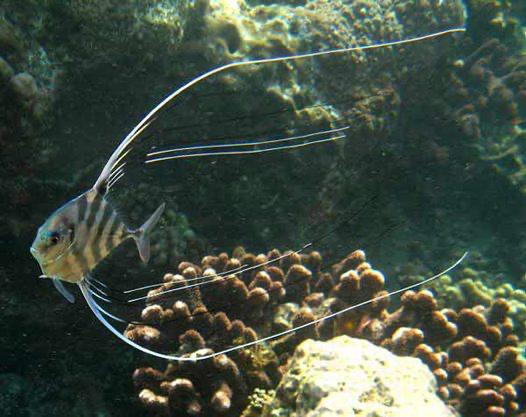Carangidae -Jacks-: (24, 27, 474, 365)
